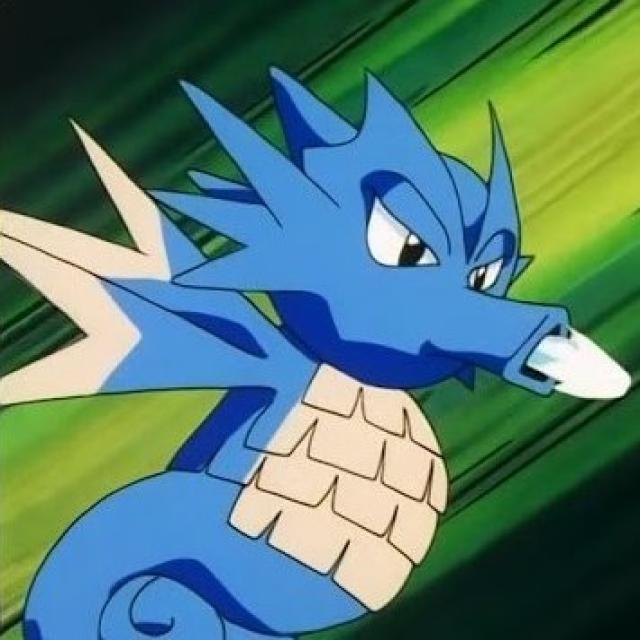Seadra: (31, 71, 569, 637)
